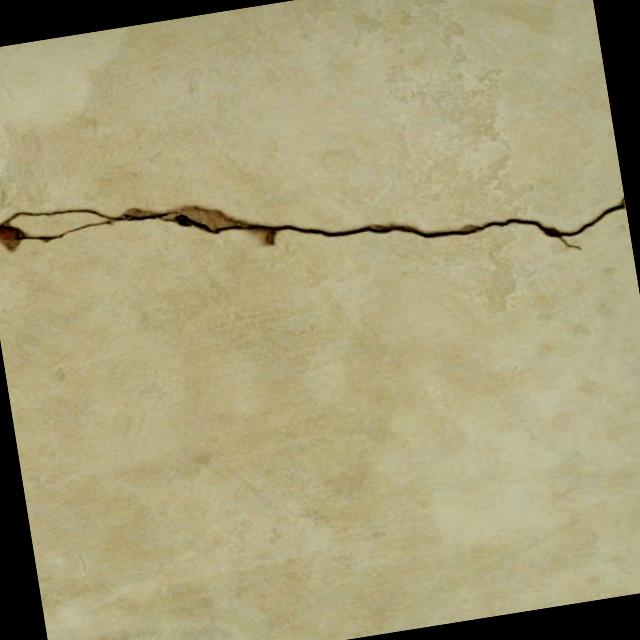crack: (0, 115, 631, 341)
